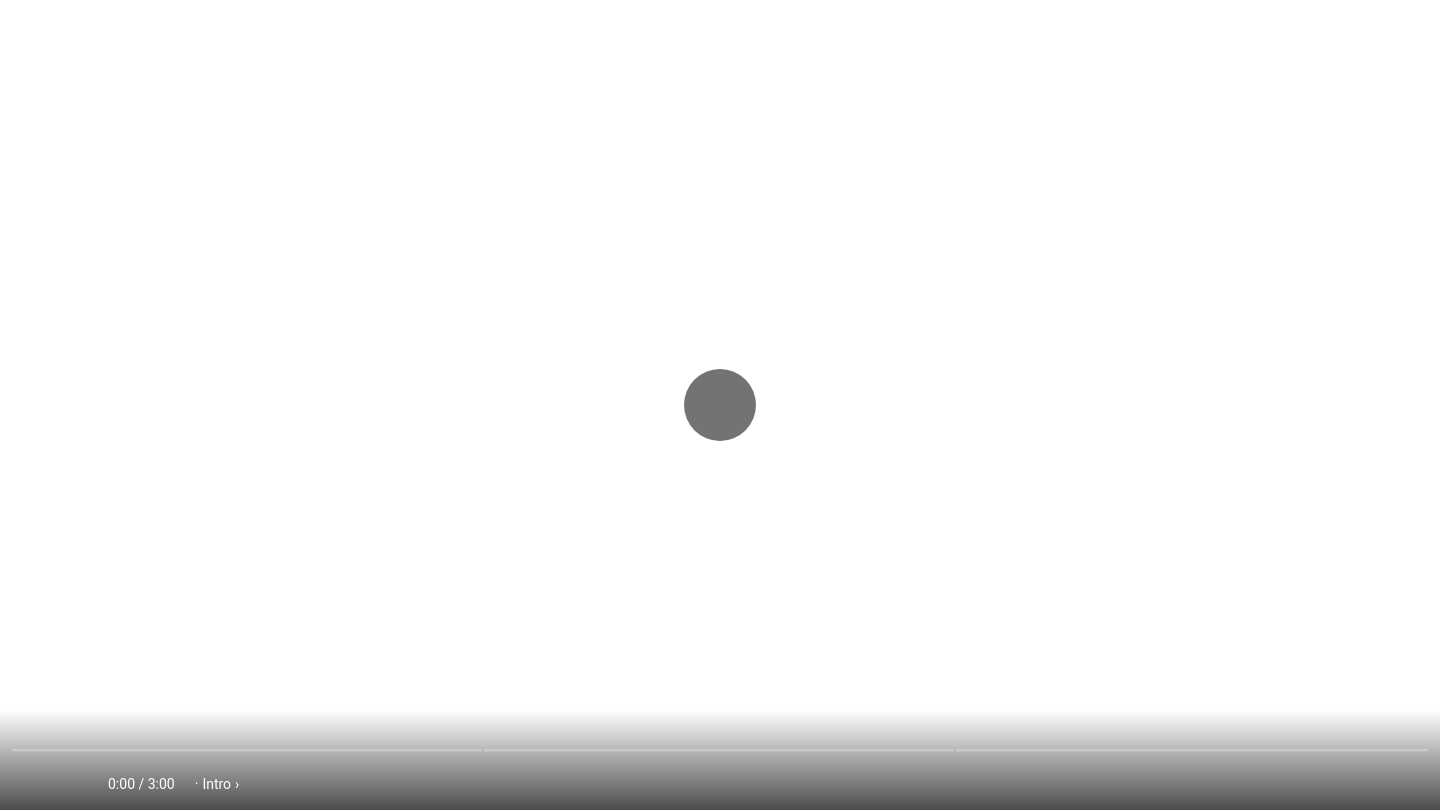
Test: PlayerControls (2.0, C1) › goes full screen with its box, and says how to leave it
The width and height of the screenshot is (1440, 810).
Click the button named "Full screen". click: x=1408, y=784
box: [1388,764,1428,804]
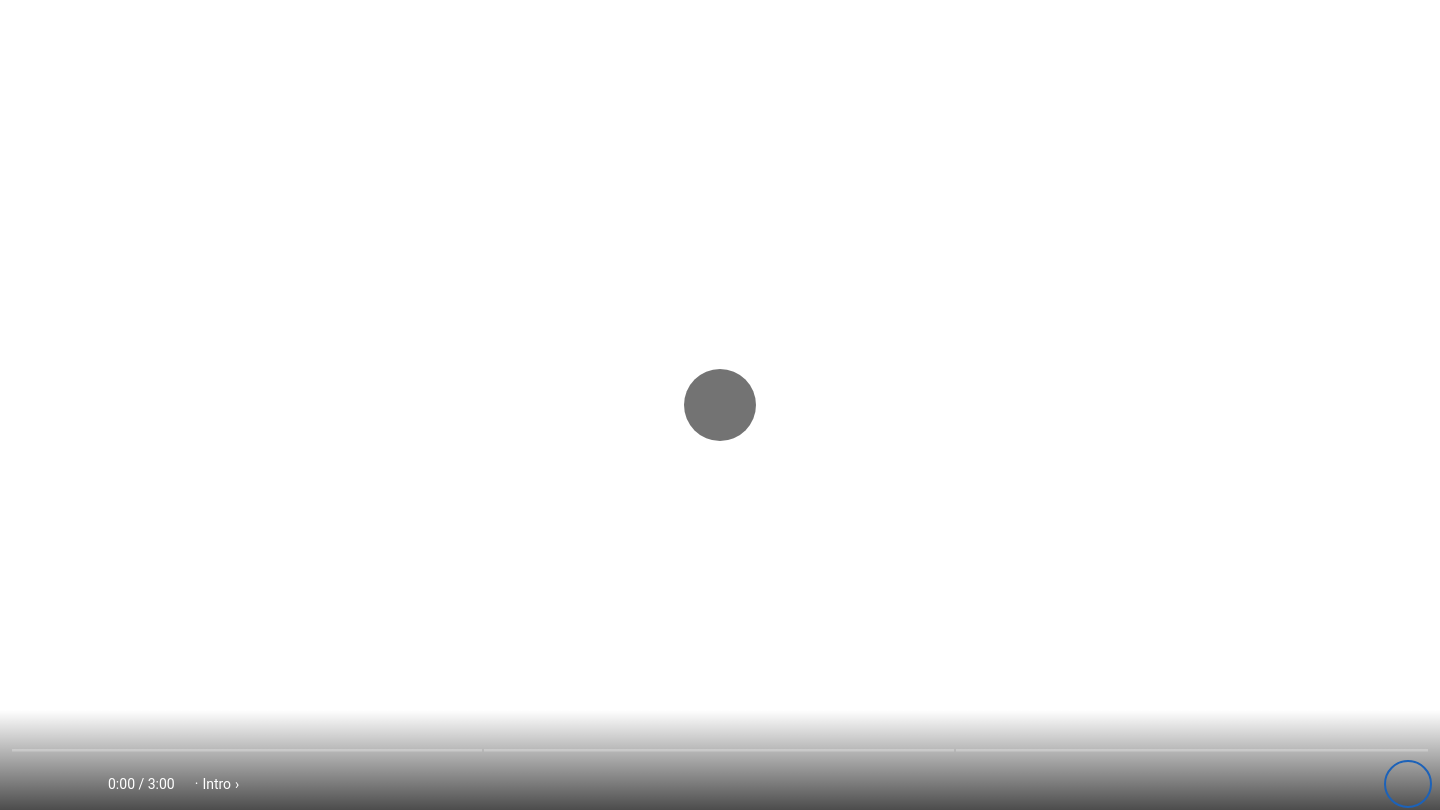
Now the button named "Exit full screen" is shown, box [1388,764,1428,804]
